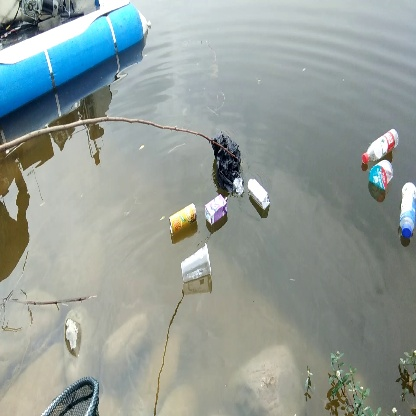bottle: (178, 242, 215, 282), (362, 129, 401, 164), (396, 181, 416, 241), (169, 203, 200, 237)
milk-box: (246, 175, 275, 220), (203, 194, 229, 227)
plastic-bag: (211, 132, 241, 193)
